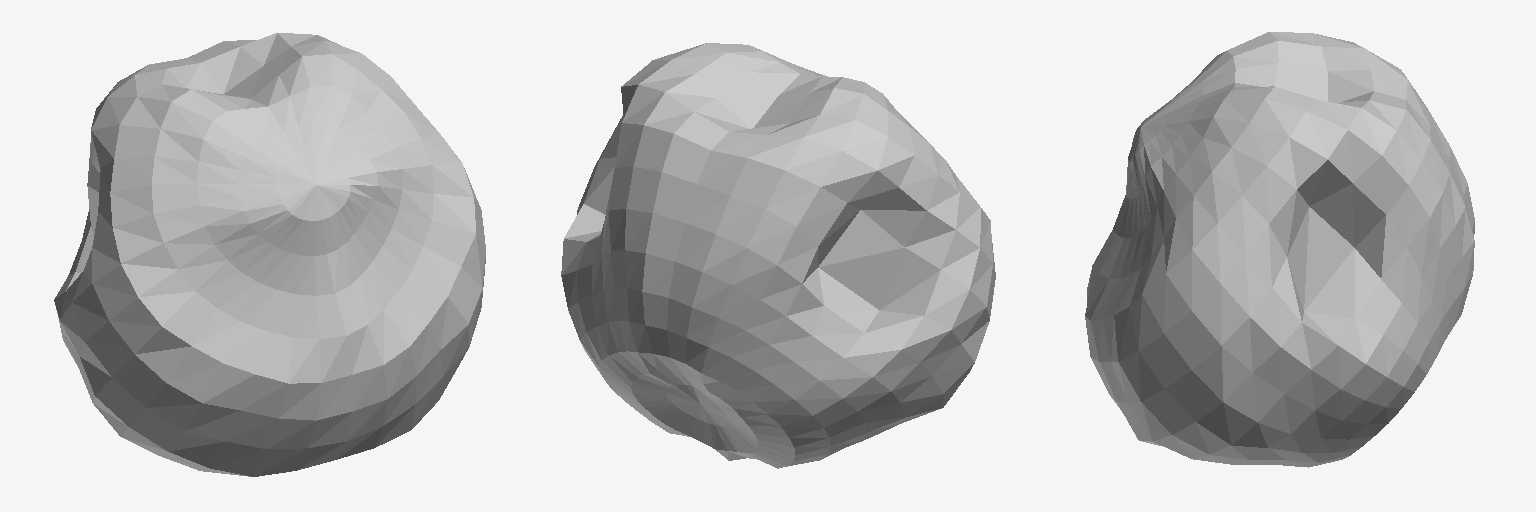
The model's file is asteroides.obj.
3 renders of one model, left to right at view 1: azimuth 30°, elevation 25°; view 2: azimuth 150°, elevation 25°; view 3: azimuth 270°, elevation 25°, orthographic.
Parts seen in each view (by area): view 1: Sphere; view 2: Sphere; view 3: Sphere.
Part boxes in pixels (x1,y1,x2,y2): Sphere: (54, 33, 485, 476); Sphere: (561, 43, 995, 468); Sphere: (1085, 32, 1474, 467).
Bounding box in the file's own units: 3.14 × 2.94 × 2.72.